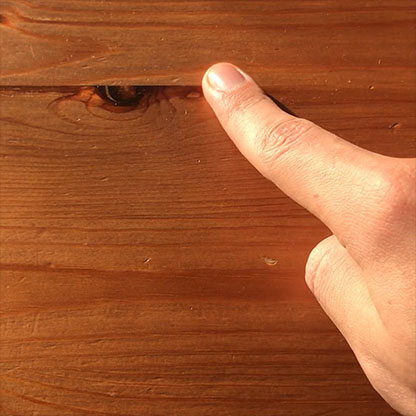fingertip: (197, 57, 261, 111)
